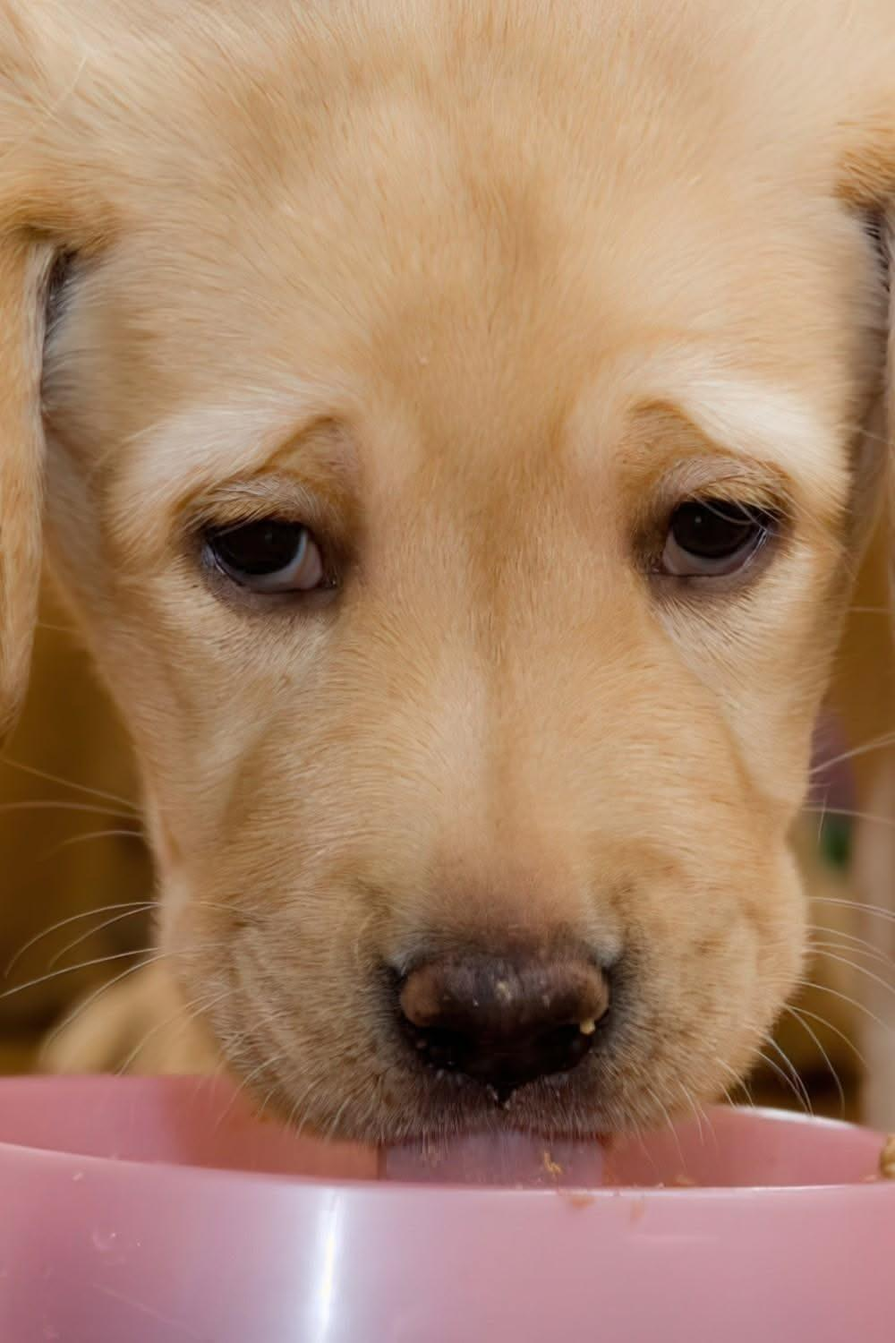puppy-dog: (1, 0, 894, 1148)
